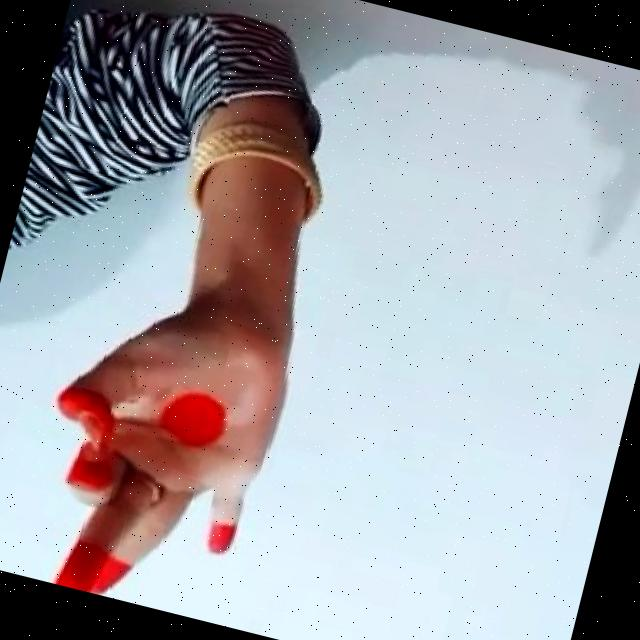Hamsasya: (0, 276, 323, 626)
bangle: (159, 107, 366, 252)
